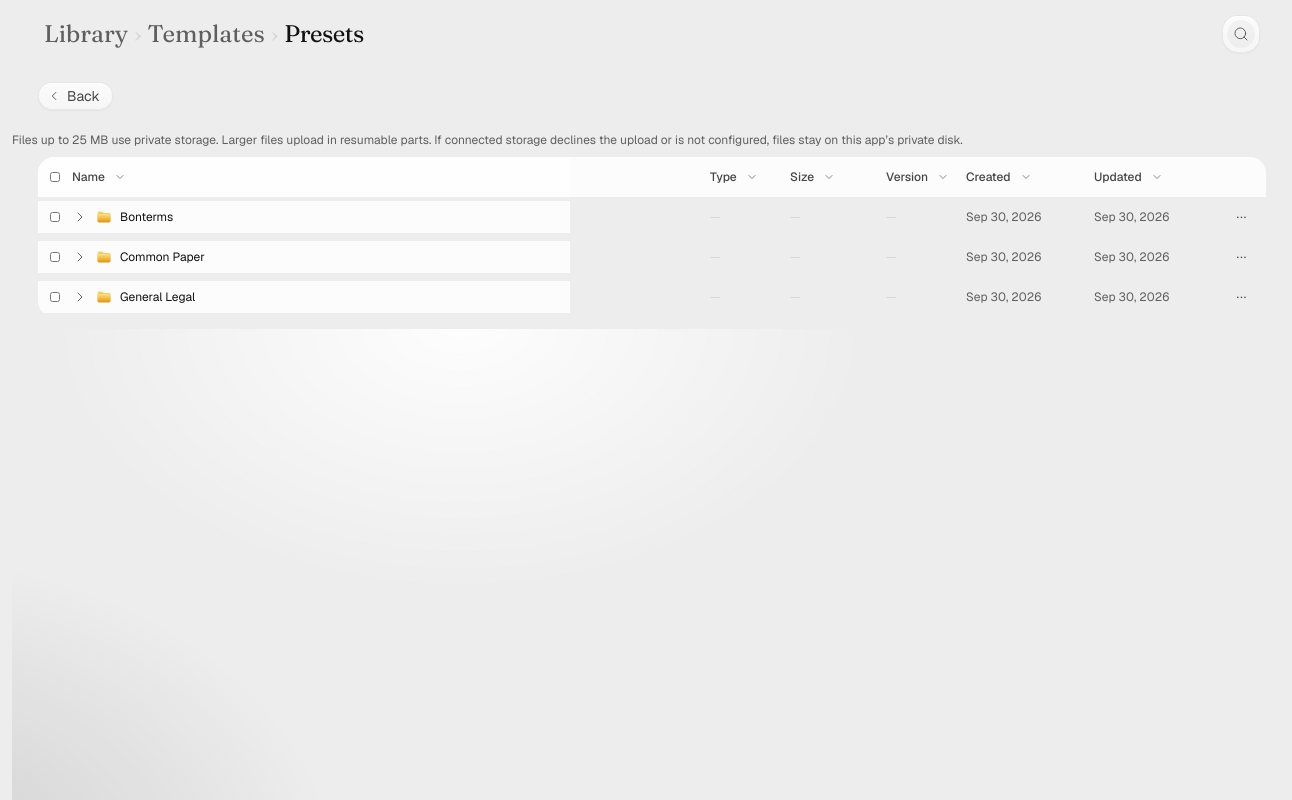
preset templates page › retains completed files after a partial folder import and retries only the remaining files
Click the button named "Open row actions".
click(1242, 257)  # box [1230,245,1254,269]
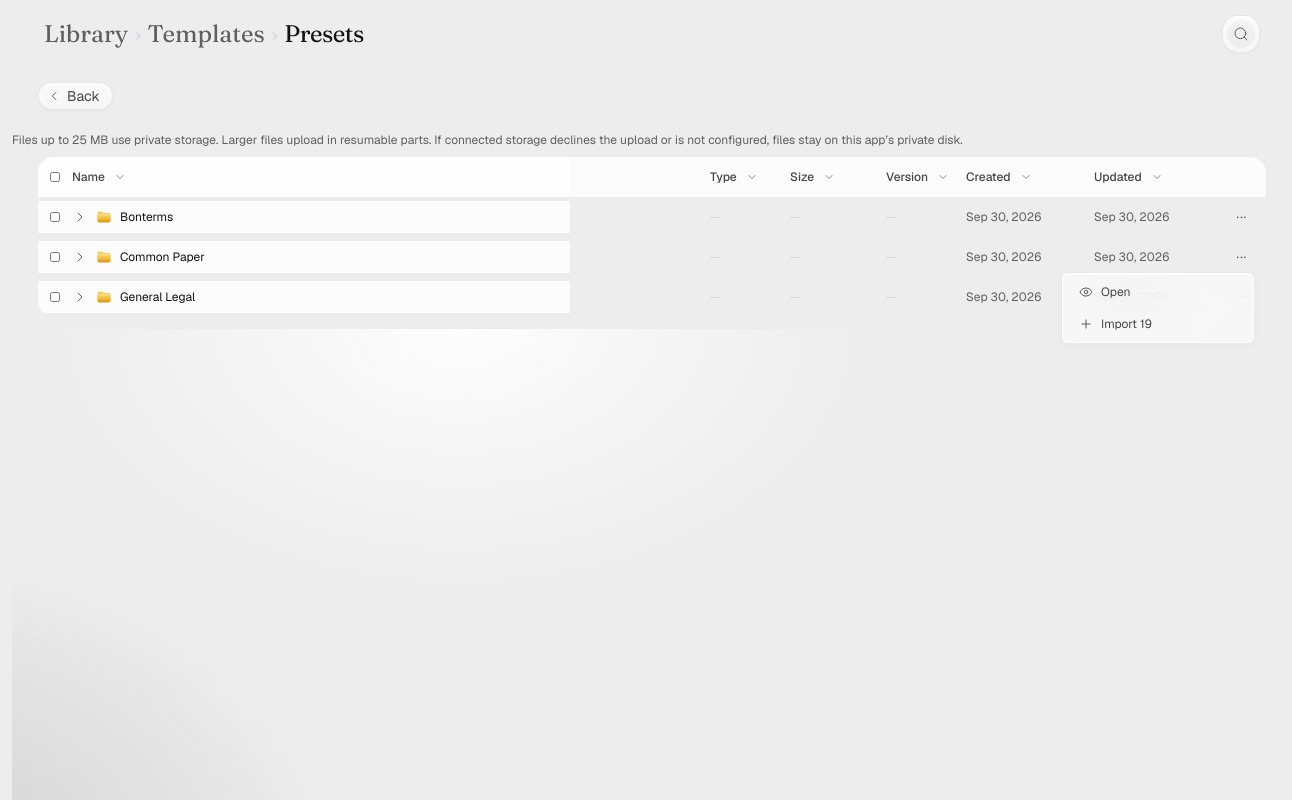
Click the menu item "Import 19".
click(1115, 324)  # box [1079,316,1152,332]
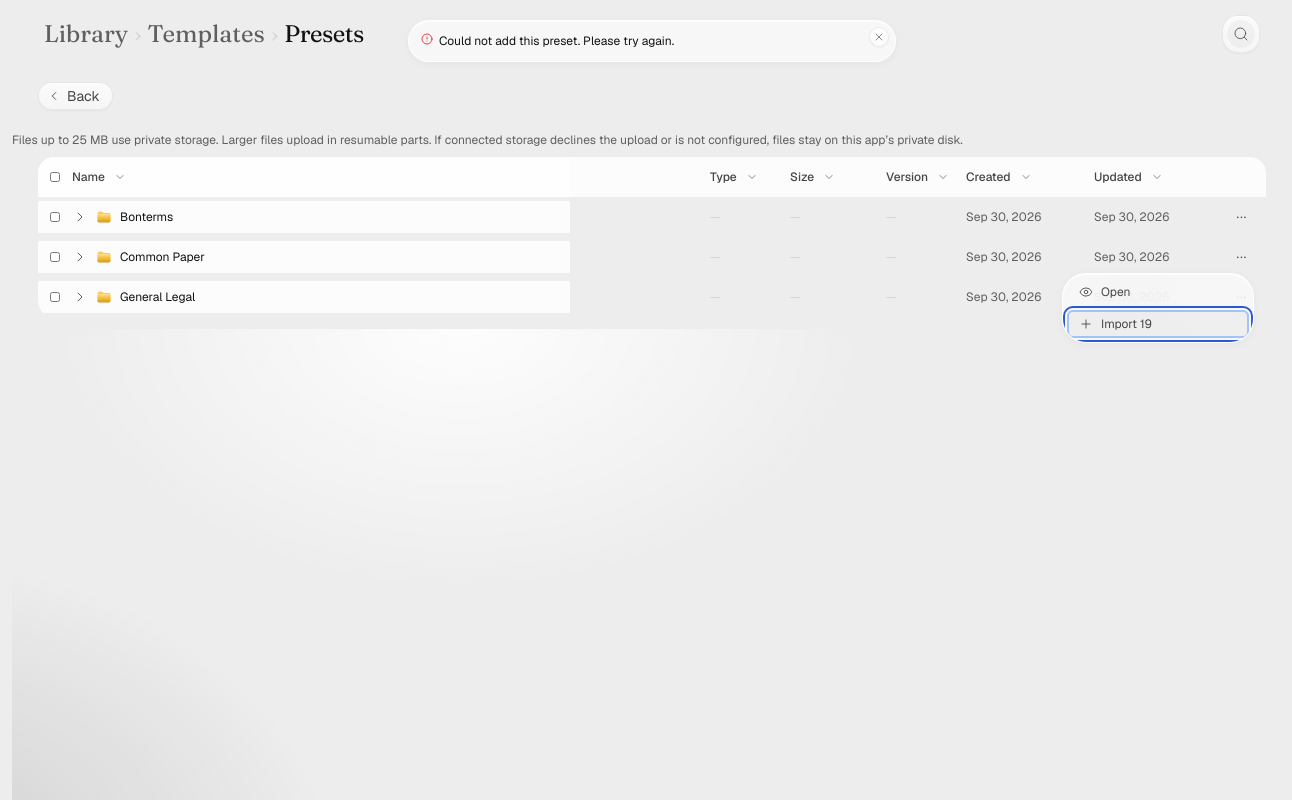
expect the message does not show "backend detail": met, box [408,20,896,62]
expect the menu item "Imported" is not shown: met
Click the menu item "Import 19".
click(1158, 324)  # box [1067,310,1249,338]
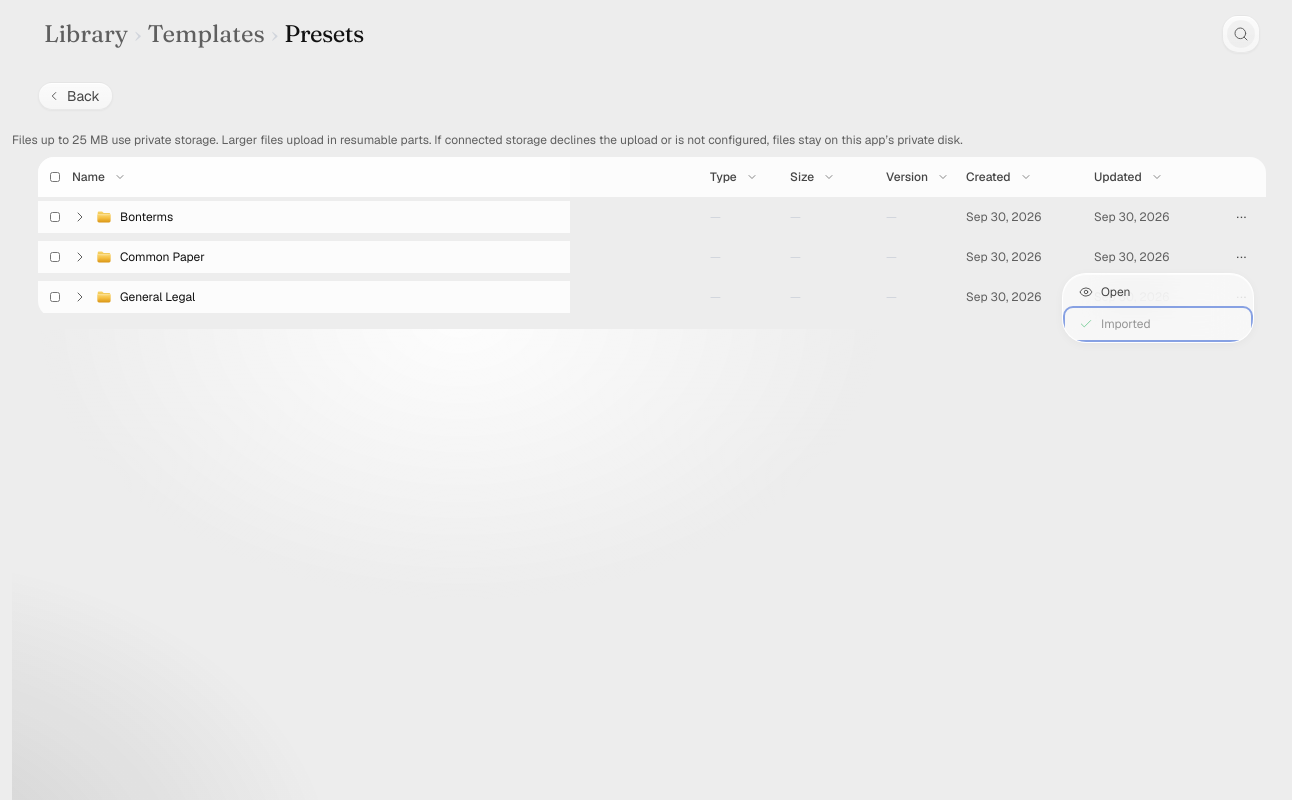
expect the menu item "Imported" is shown: met, box [1079,316,1151,332]
expect the message "Could not add this preset. Please try again." is gone: met
